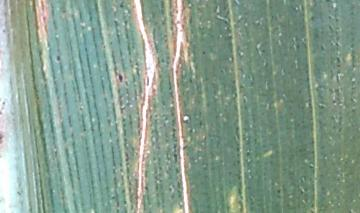tarspot: (117, 71, 124, 83), (118, 2, 125, 10), (55, 54, 61, 62)
